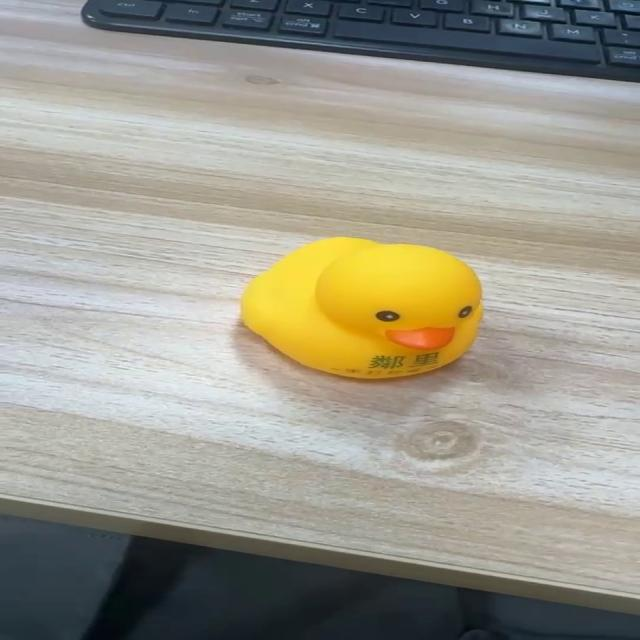yellow_duck: (237, 235, 485, 380)
